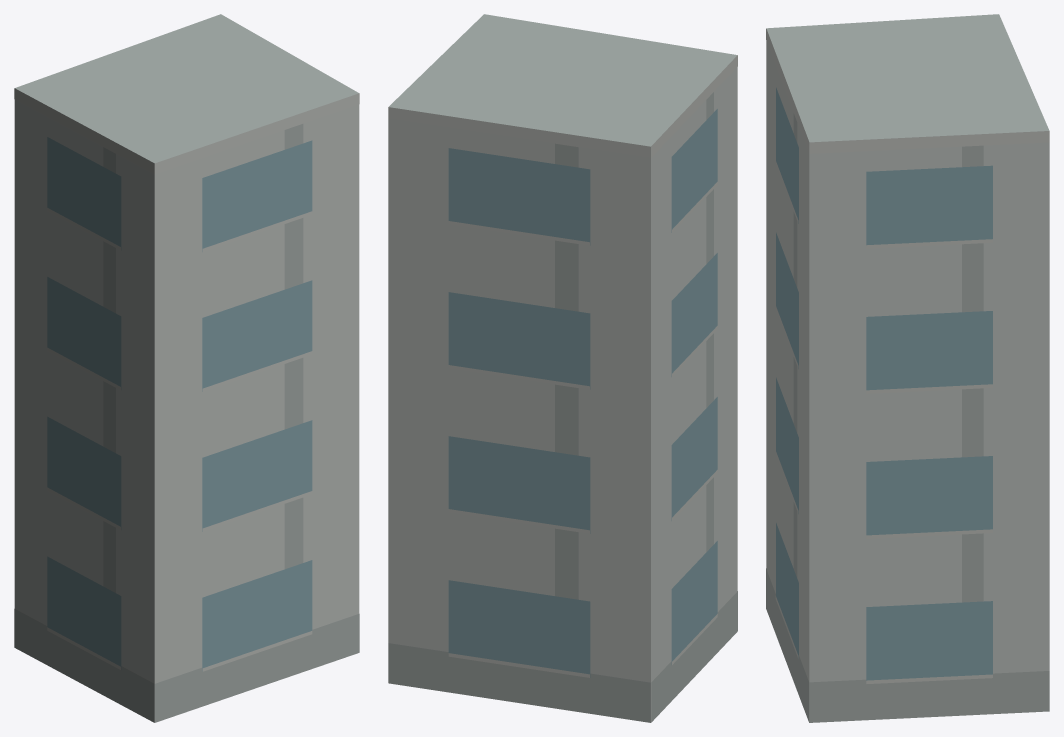
The model's file is survey-upis-33012350.glb.
3 views of the same model, side by side, from view 1: azimuth 30°, elevation 25°; view 2: azimuth 150°, elevation 25°; view 3: azimuth 270°, elevation 25° (orthographic). The views are drawn at different scales.
Visible parts, largest first — view 1: survey-upis-33012350.tmp; view 2: survey-upis-33012350.tmp; view 3: survey-upis-33012350.tmp.
Boxes of the visible parts, bbox=[...] form: survey-upis-33012350.tmp: bbox=[14, 14, 359, 722]; survey-upis-33012350.tmp: bbox=[388, 14, 737, 722]; survey-upis-33012350.tmp: bbox=[766, 14, 1049, 722].
Bounding box in the file's own units: 5.79 × 12.2 × 5.41.
